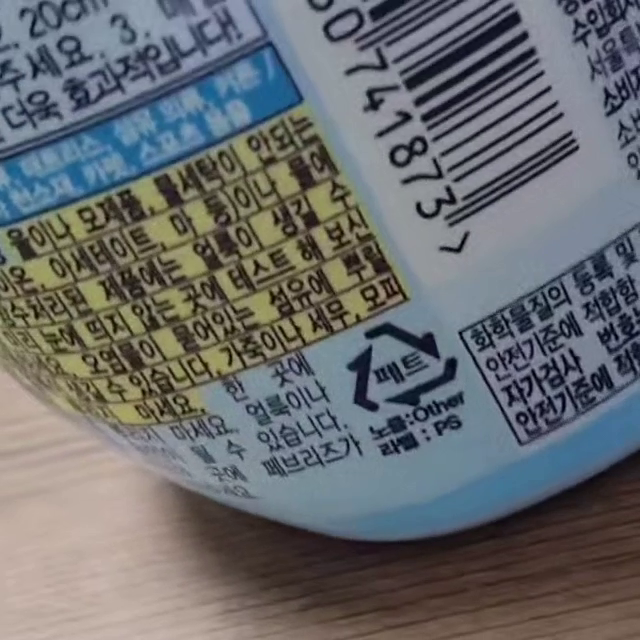Plastic: (347, 321, 460, 413)
